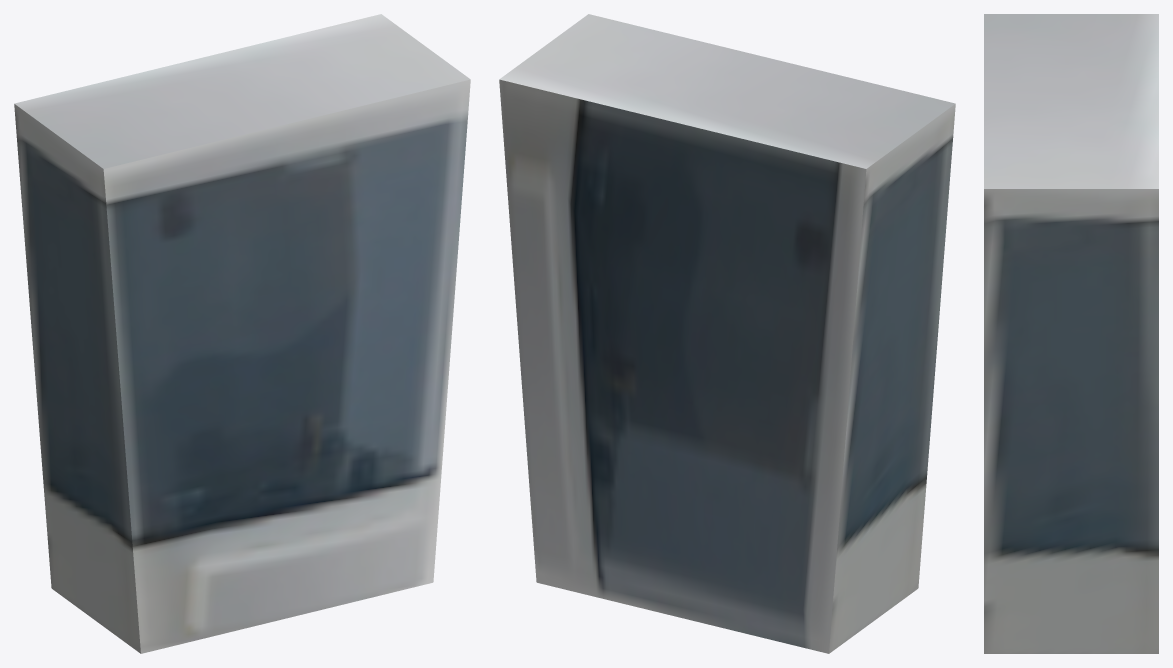
Rendered from soap_wall_mount.FBX.
3 renders of one model, left to right at view 1: azimuth 30°, elevation 25°; view 2: azimuth 150°, elevation 25°; view 3: azimuth 270°, elevation 25°, orthographic. The views are drawn at different scales.
Visible parts, largest first — view 1: Plane001; view 2: Plane001; view 3: Plane001.
Boxes of the visible parts, left/top/right/bottom form: Plane001: left=14, top=14, right=470, bottom=653; Plane001: left=499, top=14, right=955, bottom=653; Plane001: left=984, top=14, right=1158, bottom=653.
Size of the model in its own units: 25.64 by 32.97 by 10.82.
